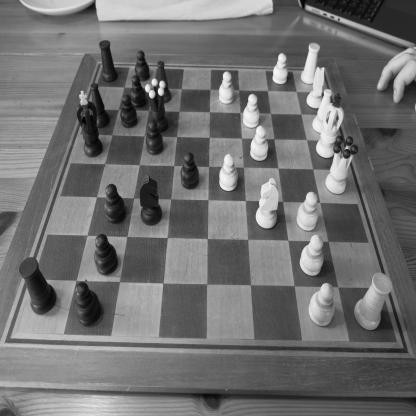black-bishop: (88, 86, 112, 128), (151, 59, 173, 104)
black-king: (76, 90, 104, 160)
black-knight: (136, 174, 164, 228)
black-pawn: (73, 281, 103, 327), (94, 232, 118, 277), (103, 183, 127, 227), (180, 152, 200, 190), (120, 93, 137, 132), (146, 119, 163, 158), (135, 48, 150, 82), (132, 76, 146, 104)
black-queen: (324, 134, 358, 197), (144, 79, 170, 130)
black-rook: (19, 255, 56, 318), (99, 40, 117, 85)
white-bishop: (312, 87, 334, 136)
white-king: (315, 93, 344, 161)
white-knight: (255, 178, 280, 232), (306, 66, 327, 111)
white-pawn: (308, 282, 336, 328), (299, 234, 325, 278), (296, 188, 320, 233), (219, 153, 240, 193), (250, 126, 269, 164), (242, 94, 262, 130), (272, 53, 289, 87), (219, 70, 235, 106)
white-rook: (352, 271, 392, 334), (300, 40, 320, 87)
